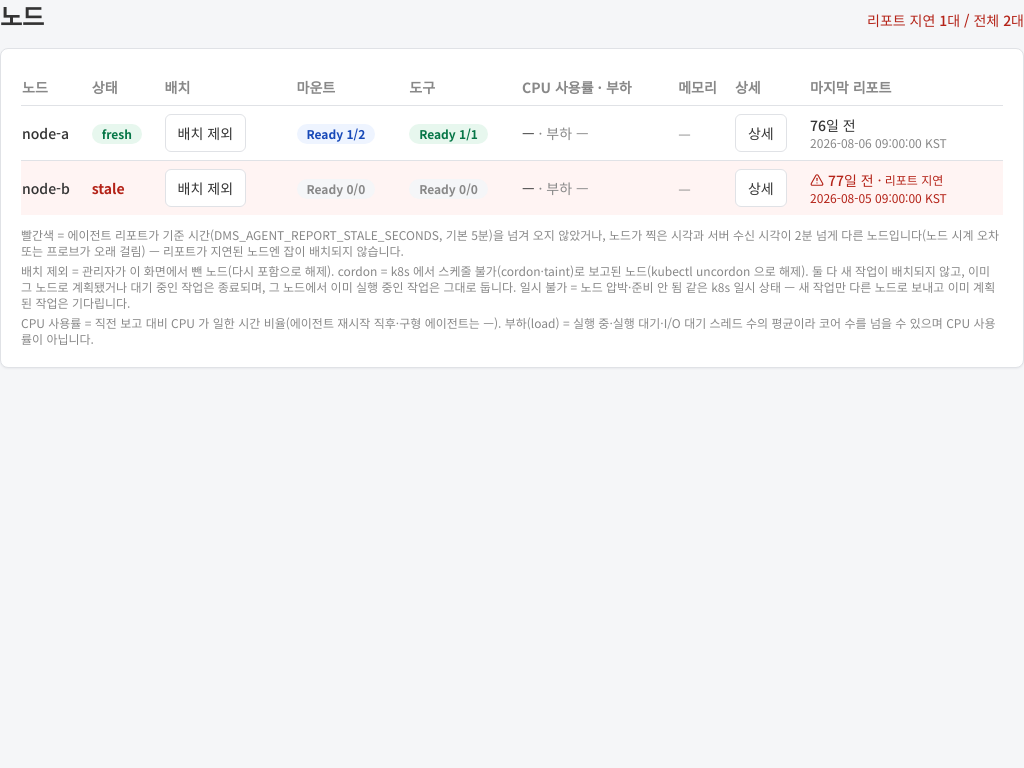
it: clicking 최근 리포트 loads and shows report history
Click the button "상세" in the row of "node-a". click: (761, 133)
box: [735,114,787,152]
(page scrolled)
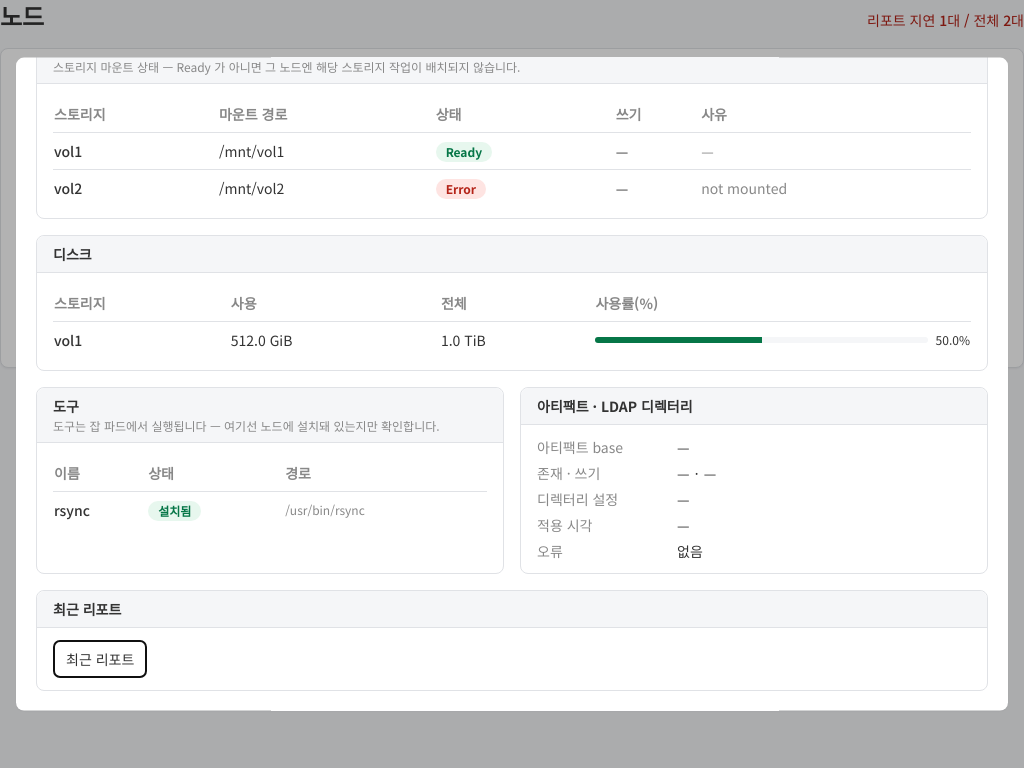
Expected: the text "/mnt/vol1" is shown, [218,132,435,169]
Click the button "최근 리포트". click: (100, 659)
box: [53,640,147,678]
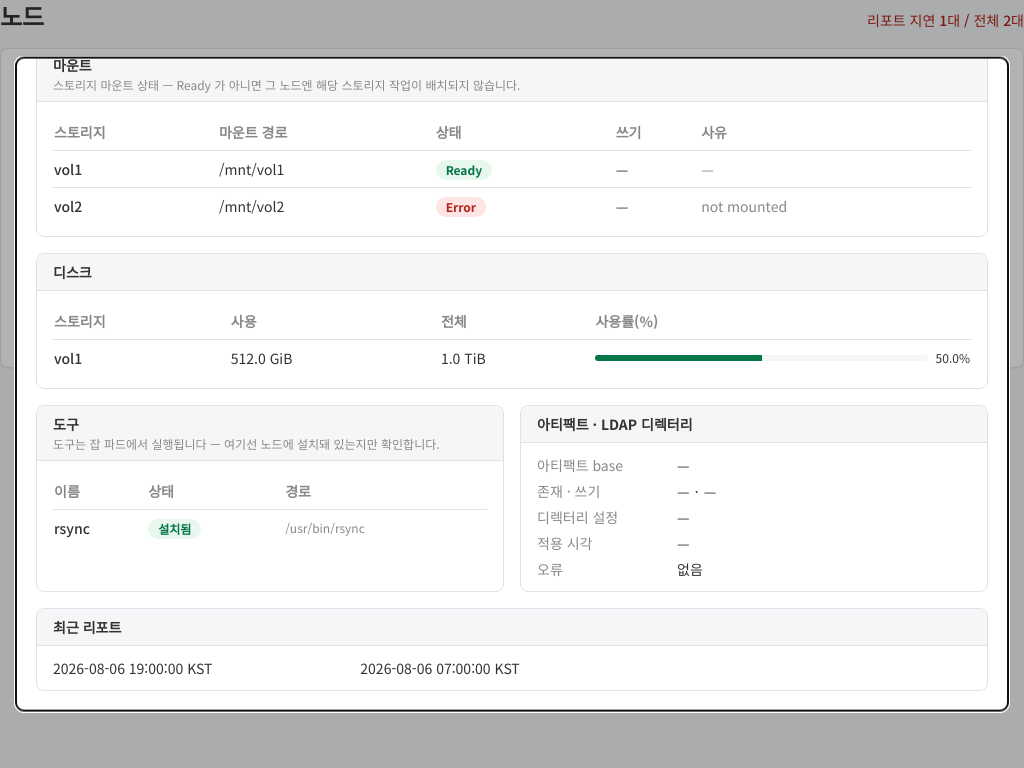
Expected: the list item "2026-08-06 19:00:00 KST" is shown, [53,658,212,678]
Expected: the list item "2026-08-06 07:00:00 KST" is shown, [360,658,520,678]
